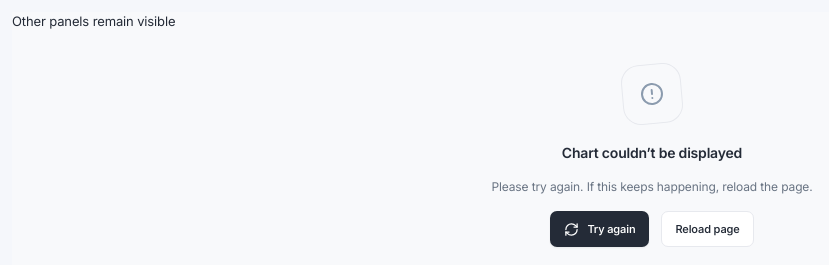
Test case: isolates a render failure and remounts a recovered component on retry
This screenshot has width=829, height=265.
Expected: the message shows "Chart couldn’t be displayed", left=562, top=144, right=742, bottom=160
Expected: the text "Other panels remain visible" is shown, left=12, top=13, right=175, bottom=29
Click the button "Try again" at (600, 229), box left=550, top=211, right=650, bottom=247
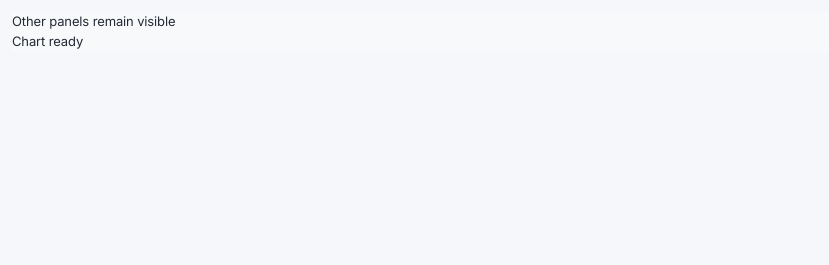
Expected: the text "Chart ready" is shown, left=12, top=32, right=83, bottom=48
